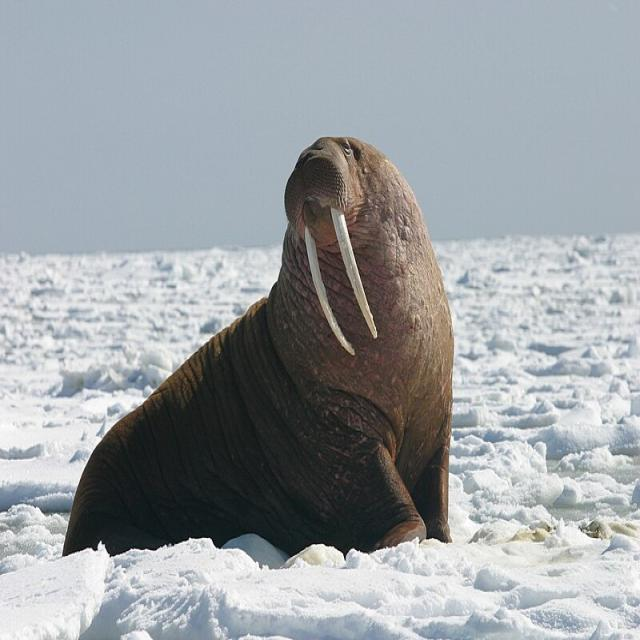walrus: (62, 115, 457, 562)
